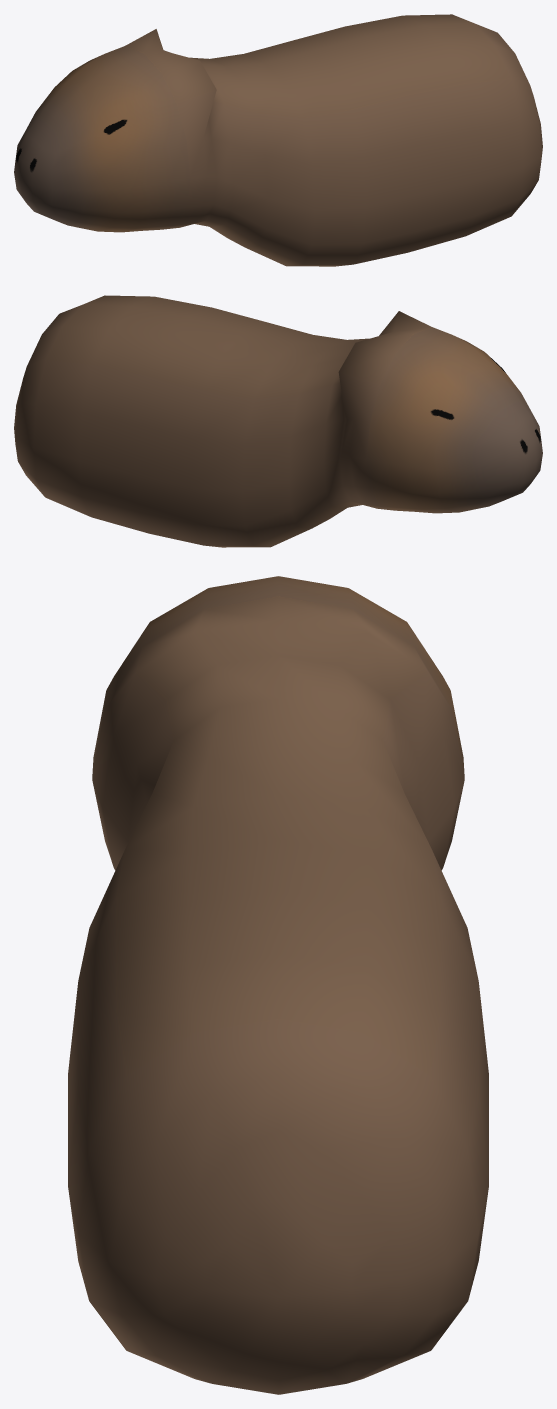
The model's file is capybara(2).fbx.
3 views of the same model, one above another, from view 1: azimuth 30°, elevation 25°; view 2: azimuth 150°, elevation 25°; view 3: azimuth 270°, elevation 25° (orthographic). The views are drawn at different scales.
Parts seen in each view (by area): view 1: Box001; view 2: Box001; view 3: Box001.
Boxes of the visible parts, box(x1,y1,x2,y2) form: Box001: box(14, 14, 542, 266); Box001: box(14, 295, 542, 547); Box001: box(68, 576, 488, 1394).
Size of the model in its own units: 172 by 78.76 by 61.53.
Materials: 1 (1 with a texture image).
